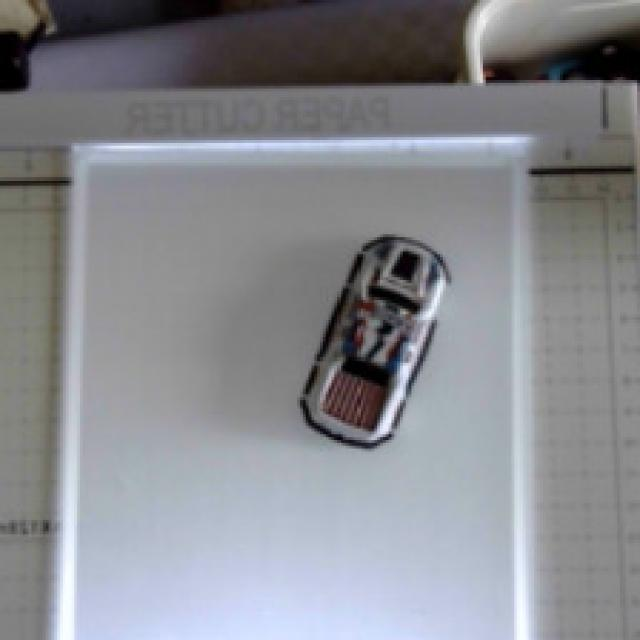Grey Car: (270, 219, 460, 474)
